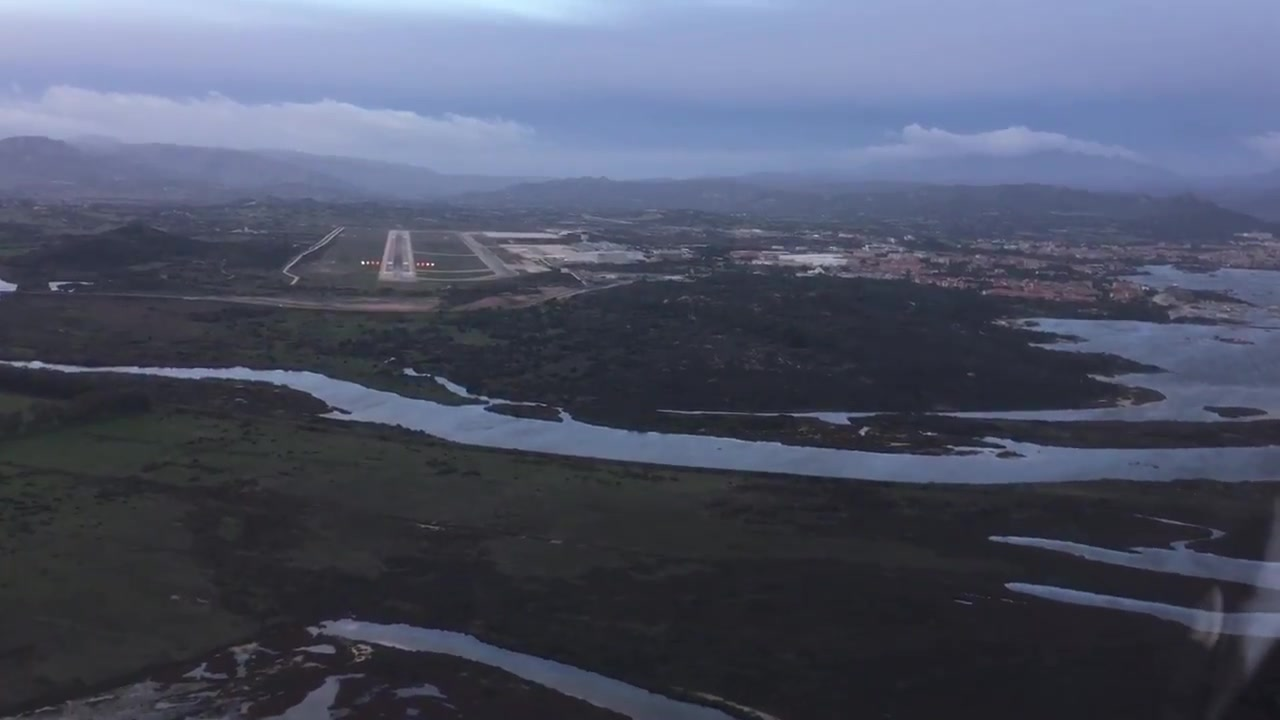runway: (379, 231, 416, 285)
